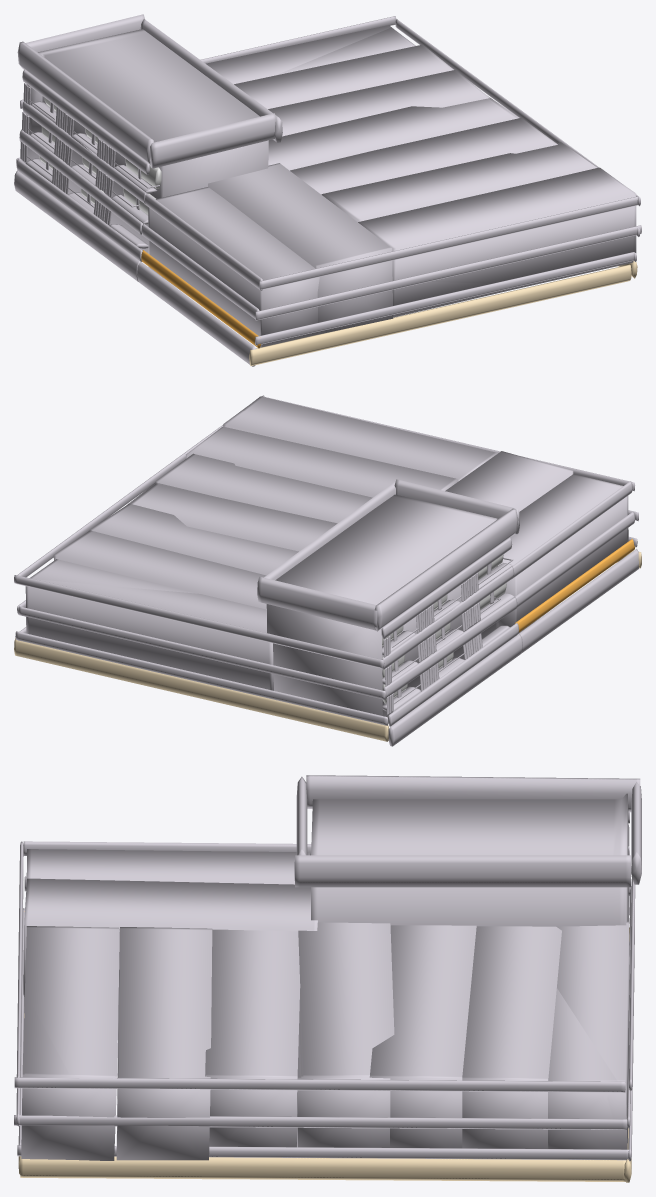
Rendered from al-ahli11.12pt2 1.fbx.
The picture shows the model from 3 angles, top to bottom: view 1: azimuth 30°, elevation 25°; view 2: azimuth 150°, elevation 25°; view 3: azimuth 270°, elevation 25°; orthographic projection. The views are drawn at different scales.
Parts seen in each view (by area): view 1: InsideBuilding, Liness, Roof, floorSides, GroundFloorFace, Balconey1, Beigge.001, BalconeyWall; view 2: InsideBuilding, Liness, Roof, floorSides, GroundFloorFace, Beigge.001, Balconey1, BalconeyWall; view 3: InsideBuilding, Liness, Roof, floorSides.
Boxes of the visible parts, x1,y1,x2,y2 form: InsideBuilding: [25, 25, 636, 347]; Liness: [16, 16, 641, 345]; Roof: [17, 14, 282, 168]; floorSides: [141, 250, 637, 365]; GroundFloorFace: [14, 170, 255, 366]; Balconey1: [25, 101, 157, 248]; Beigge.001: [20, 83, 115, 225]; BalconeyWall: [39, 98, 161, 214]; InsideBuilding: [25, 396, 628, 717]; Liness: [14, 395, 638, 726]; Roof: [257, 479, 519, 631]; floorSides: [14, 539, 641, 741]; GroundFloorFace: [388, 549, 638, 746]; Beigge.001: [383, 572, 482, 714]; Balconey1: [382, 563, 514, 712]; BalconeyWall: [382, 554, 506, 703]; InsideBuilding: [21, 793, 629, 1160]; Liness: [14, 812, 635, 1161]; Roof: [294, 775, 641, 887]; floorSides: [18, 911, 631, 1182].
Size of the model in its own units: 12.71 by 4.55 by 14.3.
